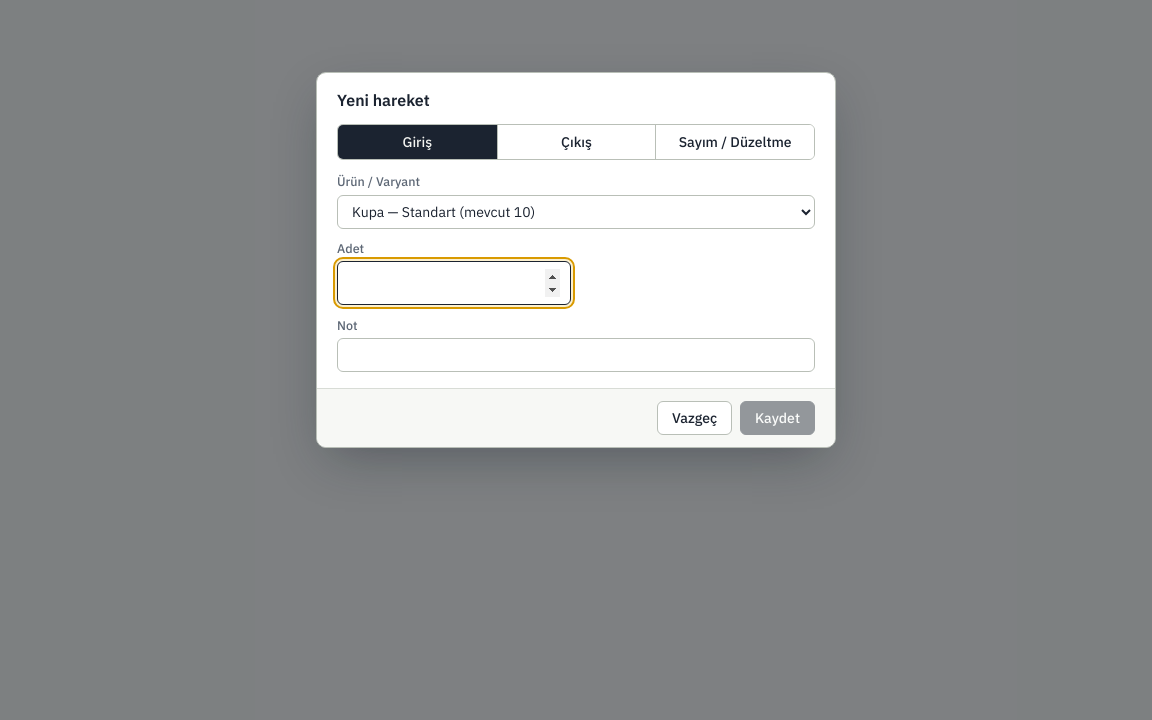
Test: MovementDialog › sends one request with a stable idempotency key on double click
Expected: the dropdown labelled "Ürün / Varyant" shows "Kupa — Standart (mevcut 10)", [337,195,815,229]
Type "3" into the number field labelled "Adet" at x=454, y=283, box [337,261,571,305]
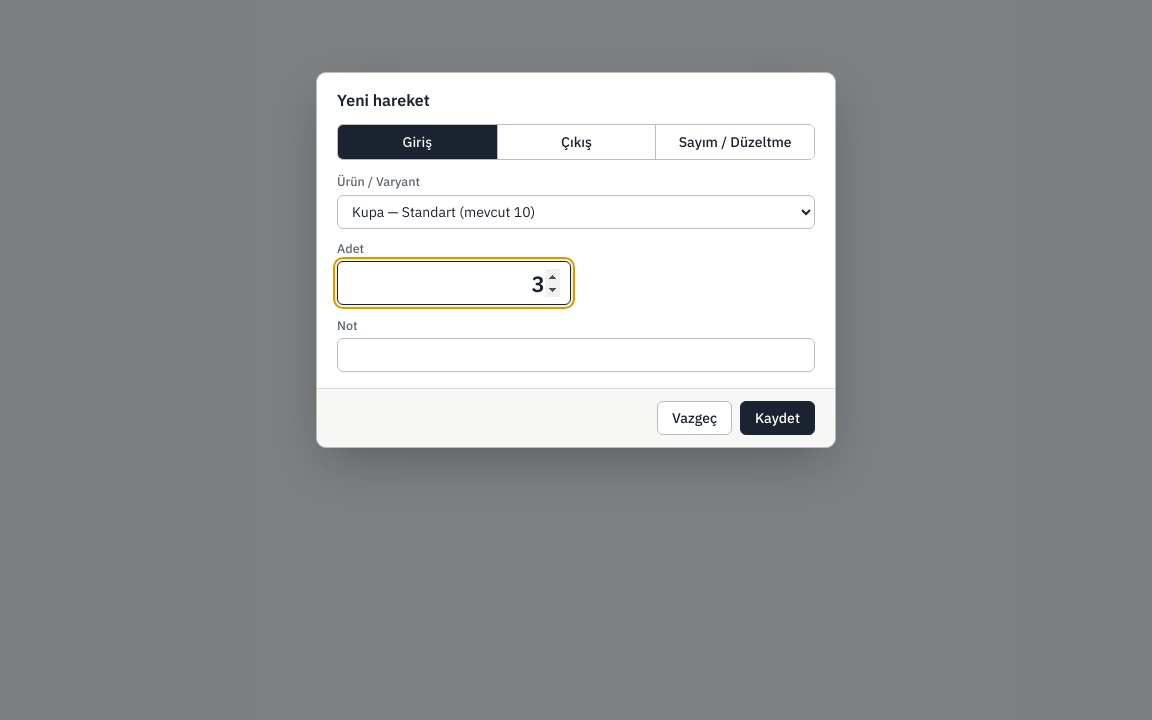
Double-click the button "Kaydet" at x=778, y=418, box [740,401,815,435]
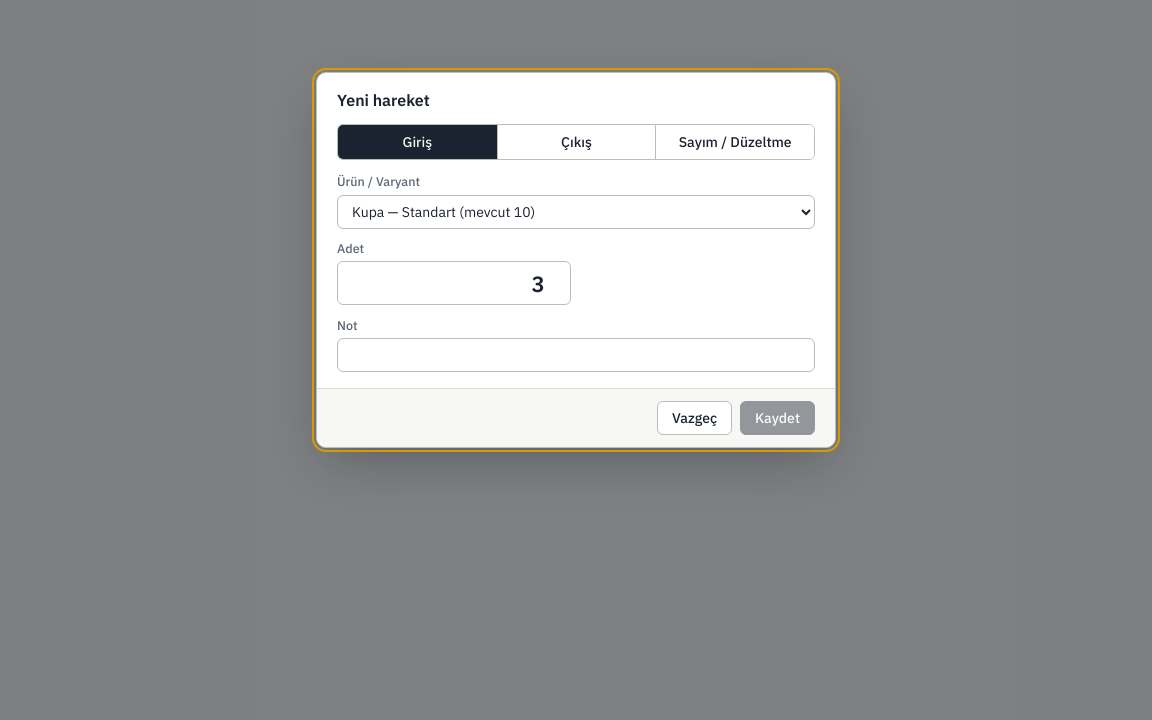
Expected: the button "Kaydet" is disabled, [740,401,815,435]
